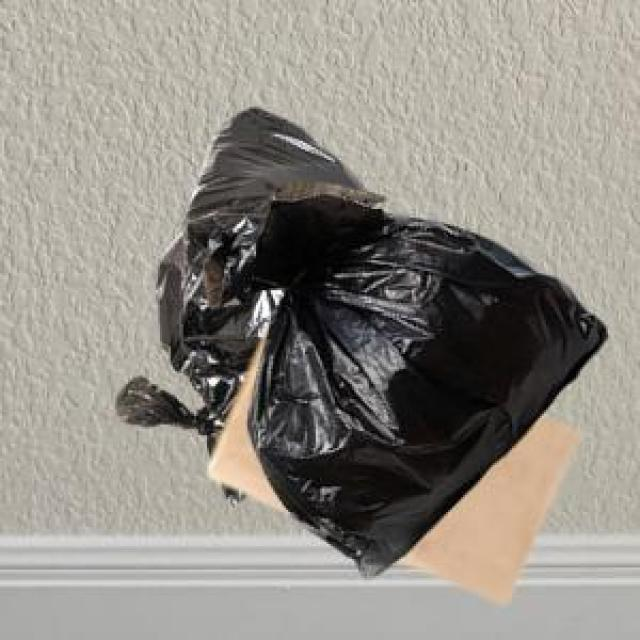miscellaneous trash: (179, 179, 604, 576), (113, 105, 363, 501)
paper: (205, 326, 576, 600)
